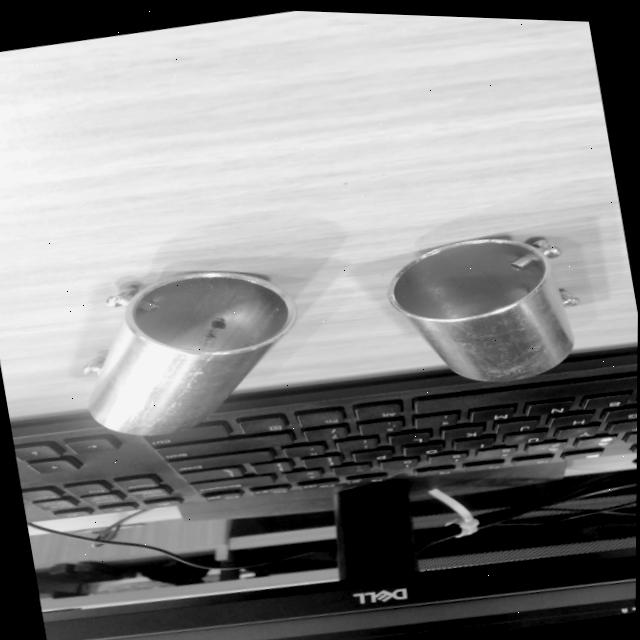Co_Lon: (47, 211, 306, 475)
Co_Nho: (381, 223, 593, 398)
